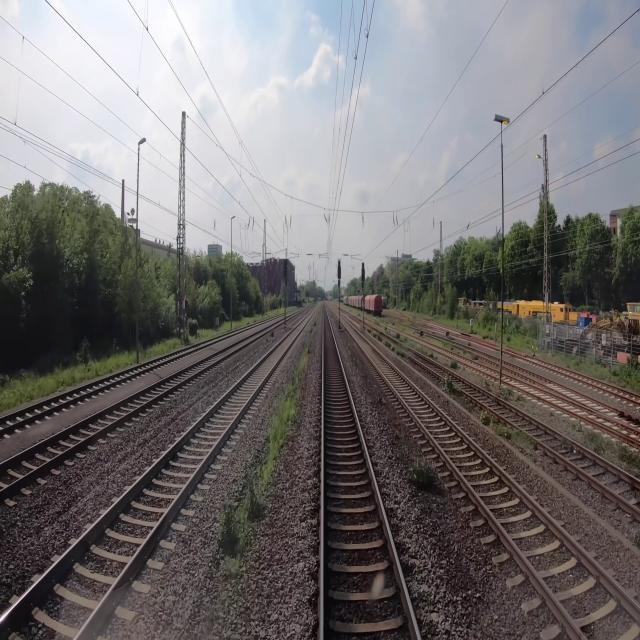Plant: (209, 308, 321, 583), (571, 420, 639, 475), (405, 453, 450, 498), (372, 388, 405, 444), (482, 377, 530, 409), (476, 406, 513, 445), (369, 330, 402, 359), (437, 373, 460, 399), (382, 325, 408, 344), (448, 359, 460, 371), (428, 351, 438, 360)
